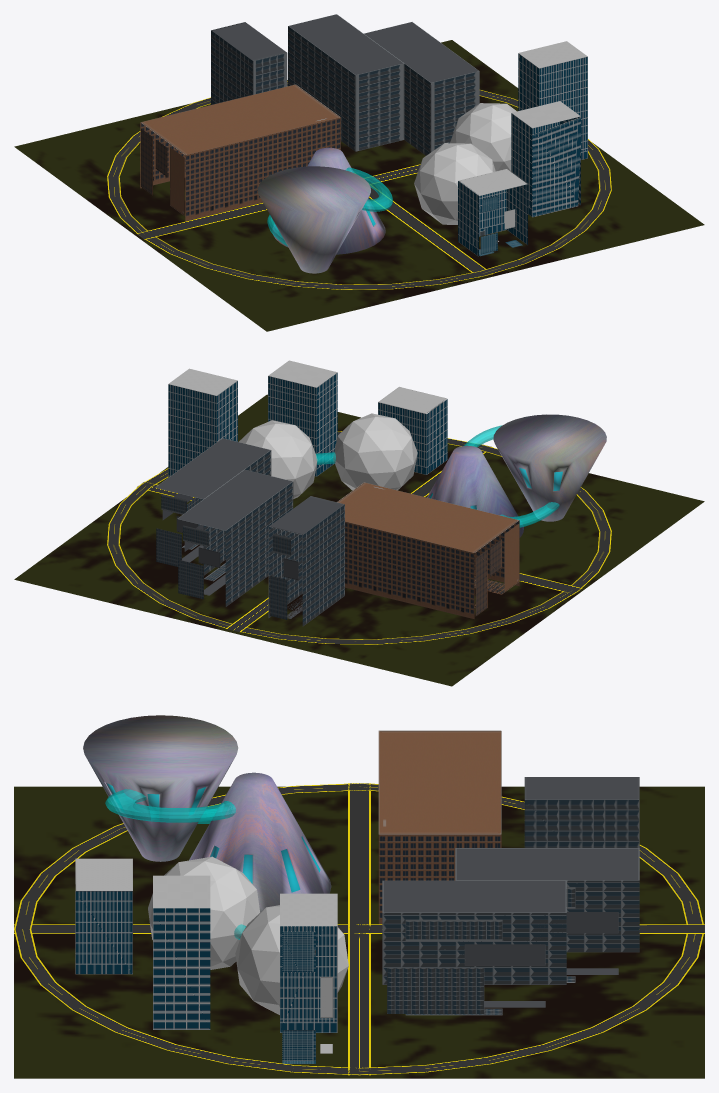
File: stadt 1.fbx
The picture shows the model from 3 angles, top to bottom: view 1: azimuth 30°, elevation 25°; view 2: azimuth 150°, elevation 25°; view 3: azimuth 270°, elevation 25°; orthographic projection. The views are drawn at different scales.
Parts seen in each view (by area): view 1: Floor, Cube.003, Cube.001, Building003, Cube.004, Building005, StreetCircle1, Cube.005, Cube.002, Cube, Street1, Street2; view 2: Floor, Cube.001, Cube.003, Building003, Building005, Cube.002, StreetCircle1, Cube, Cube.004, Cube.005, Street1, Street2; view 3: Floor, Cube.003, Building003, Cube.001, StreetCircle1, Cube, Cube.004, Building005, Cube.002, Cube.005, Street2, Street1.
Part boxes in pixels (x1,y1,x2,y2): Floor: (14,40,704,331); Cube.003: (288,14,479,155); Cube.001: (140,84,340,221); Building003: (257,147,392,273); Cube.004: (511,101,580,217); Building005: (414,103,516,224); StreetCircle1: (107,81,611,289); Cube.005: (458,169,527,256); Cube.002: (211,22,287,104); Cube: (518,41,587,159); Street1: (355,173,492,277); Street2: (136,164,420,239); Floor: (14,394,704,686); Cube.001: (337,482,519,619); Cube.003: (155,438,293,606); Building003: (427,414,606,537); Building005: (239,413,417,498); Cube.002: (268,496,344,626); StreetCircle1: (107,431,611,644); Cube: (168,368,237,477); Cube.004: (268,360,337,476); Cube.005: (378,387,447,474); Street1: (226,444,492,632); Street2: (136,481,582,594); Floor: (14,786,704,1078); Cube.003: (382,848,639,1015); Building003: (83,715,331,912); Cube.001: (378,730,501,924); StreetCircle1: (14,783,703,1075); Cube: (280,893,337,1063); Cube.004: (153,875,210,1029); Building005: (148,856,348,1014); Cube.002: (524,777,639,847); Cube.005: (75,858,132,974); Street2: (348,783,370,1075); Street1: (14,924,704,933).
Size of the model in its own units: 18000 by 4004 by 18000.
